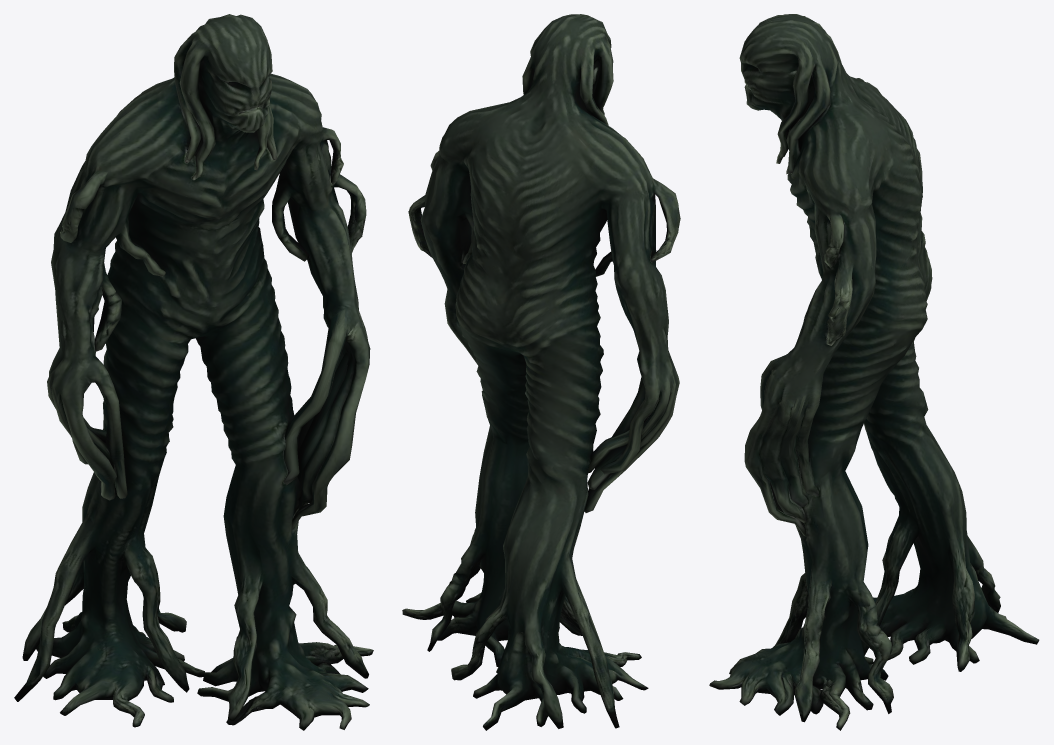
The model's file is Blight Vine.glb.
3 renders of one model, left to right at view 1: azimuth 30°, elevation 25°; view 2: azimuth 150°, elevation 25°; view 3: azimuth 270°, elevation 25°, orthographic. The views are drawn at different scales.
Parts seen in each view (by area): view 1: vine_low.001; view 2: vine_low.001; view 3: vine_low.001.
Boxes of the visible parts, <box> form: vine_low.001: <box>14,14,373,730</box>; vine_low.001: <box>402,14,680,730</box>; vine_low.001: <box>709,14,1039,730</box>.
Size of the model in its own units: 2.9 by 6.26 by 2.87.
Materials: 1 (1 with a texture image).
